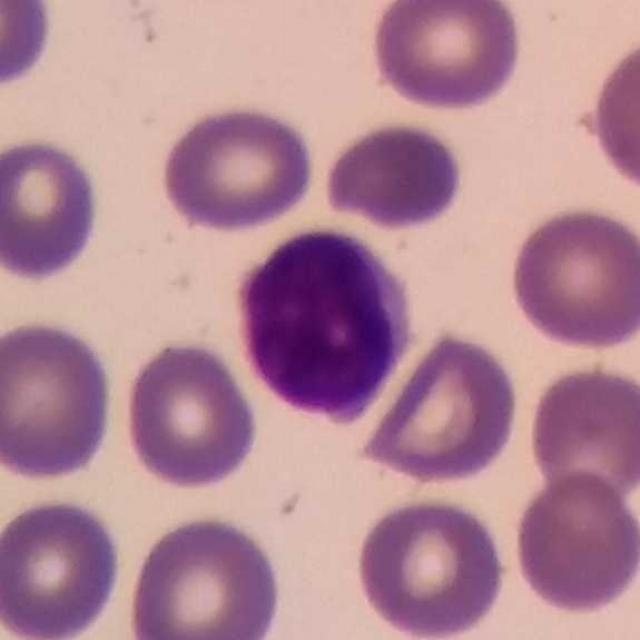Lymphocyte: (229, 220, 420, 428)
RBC: (354, 327, 524, 489), (353, 493, 510, 640), (118, 335, 262, 493), (158, 100, 318, 234), (122, 510, 286, 640), (505, 203, 639, 354), (0, 315, 119, 485), (508, 467, 640, 617), (0, 493, 127, 640), (365, 0, 527, 115), (320, 118, 468, 233), (523, 361, 640, 505), (0, 133, 106, 286), (584, 30, 640, 198), (0, 0, 59, 93)
